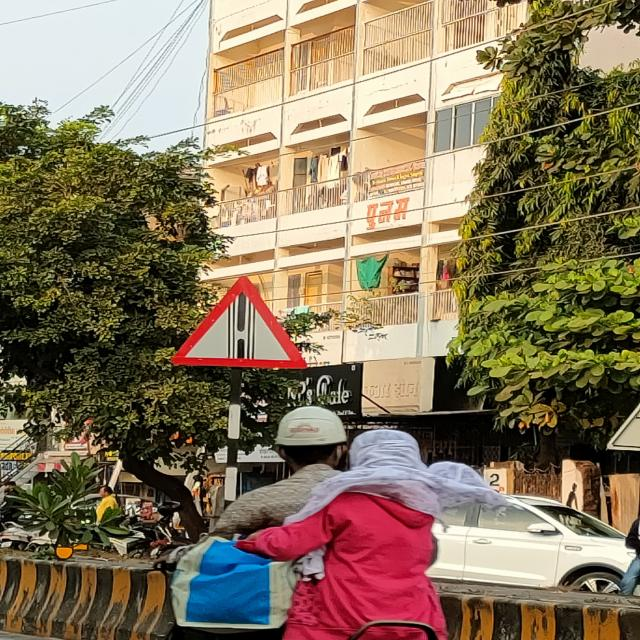ferry: (169, 274, 309, 369)
